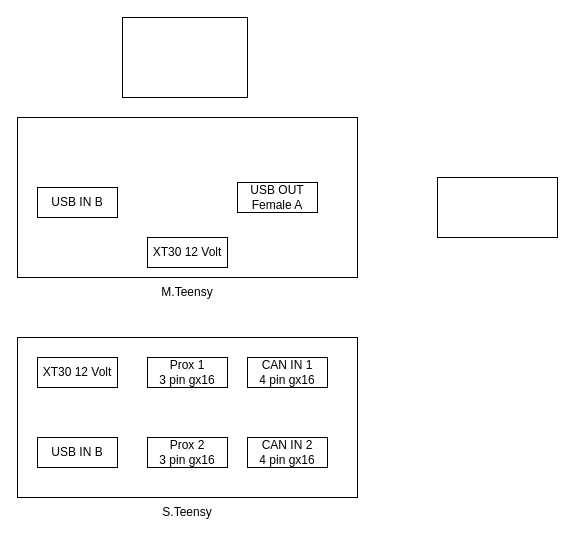
Some shapes in this 575 by 545 pixel diagram are drawn without their labels. The shapes that lost their labels are listed below. From the top down, each one's centre as x and y in pixels, then its label:
At [185,57]: "Sensor IN 8 pin Gx16 TBD eStop Current Sensor".
At [497,207]: "USB HUB".
